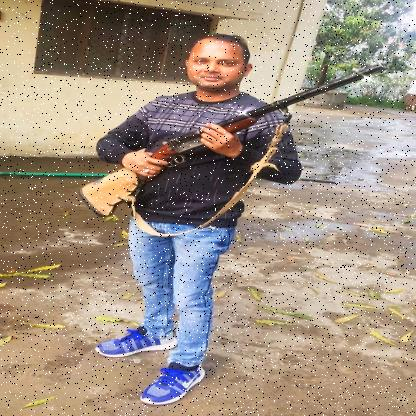rifle: (76, 62, 388, 220)
